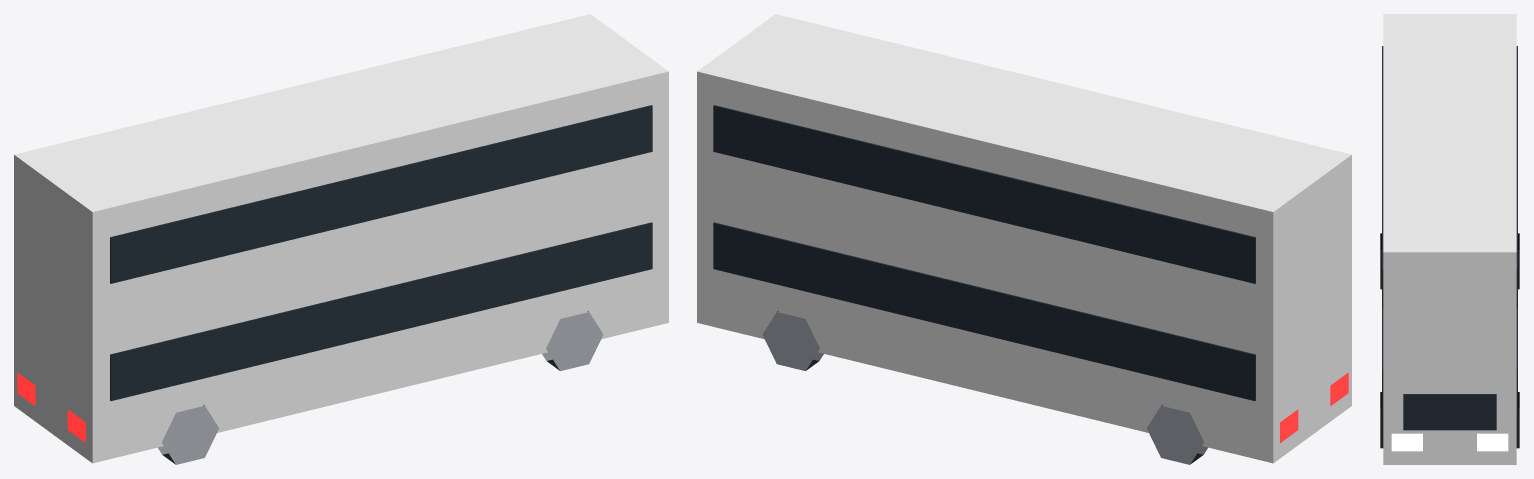
Rendered from bus_double.glb.
3 views of the same model, side by side, from view 1: azimuth 30°, elevation 25°; view 2: azimuth 150°, elevation 25°; view 3: azimuth 270°, elevation 25° (orthographic). The views are drawn at different scales.
Parts seen in each view (by area): view 1: bus_double; view 2: bus_double; view 3: bus_double.
Boxes of the visible parts, x1,y1,x2,y2 form: bus_double: (14,14,668,464); bus_double: (697,14,1351,464); bus_double: (1380,14,1519,464).
Bounding box in the file's own units: 0.724 × 0.324 × 0.178.
